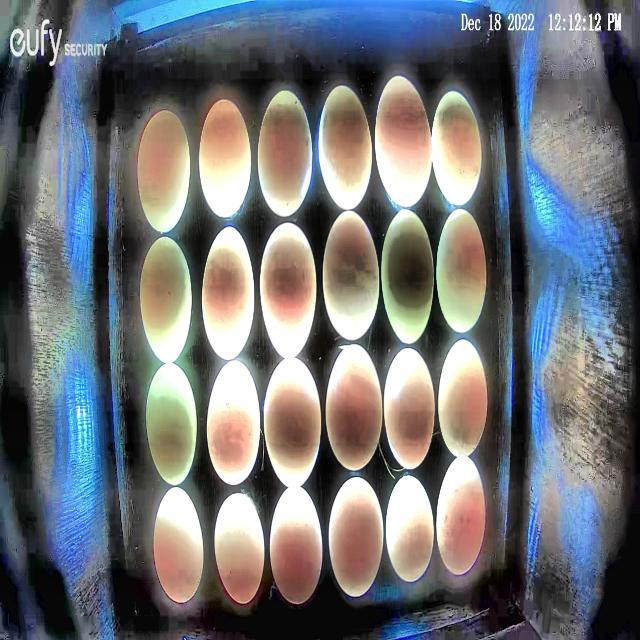UF: (260, 220, 318, 360), (374, 74, 432, 209), (321, 210, 380, 341), (256, 86, 314, 219), (324, 344, 382, 474), (201, 224, 255, 362), (264, 361, 322, 489), (381, 208, 434, 345), (206, 362, 262, 488), (328, 475, 385, 598), (136, 109, 192, 234), (139, 236, 193, 364), (197, 97, 253, 220), (318, 84, 372, 210), (382, 346, 436, 471), (436, 206, 487, 334), (146, 362, 198, 486), (436, 457, 488, 578), (270, 487, 323, 604), (153, 486, 205, 604), (438, 337, 488, 458), (432, 89, 483, 207), (213, 493, 265, 605), (386, 475, 434, 584)
